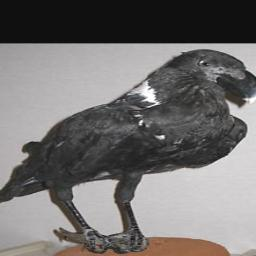Crow: (0, 48, 256, 255)
